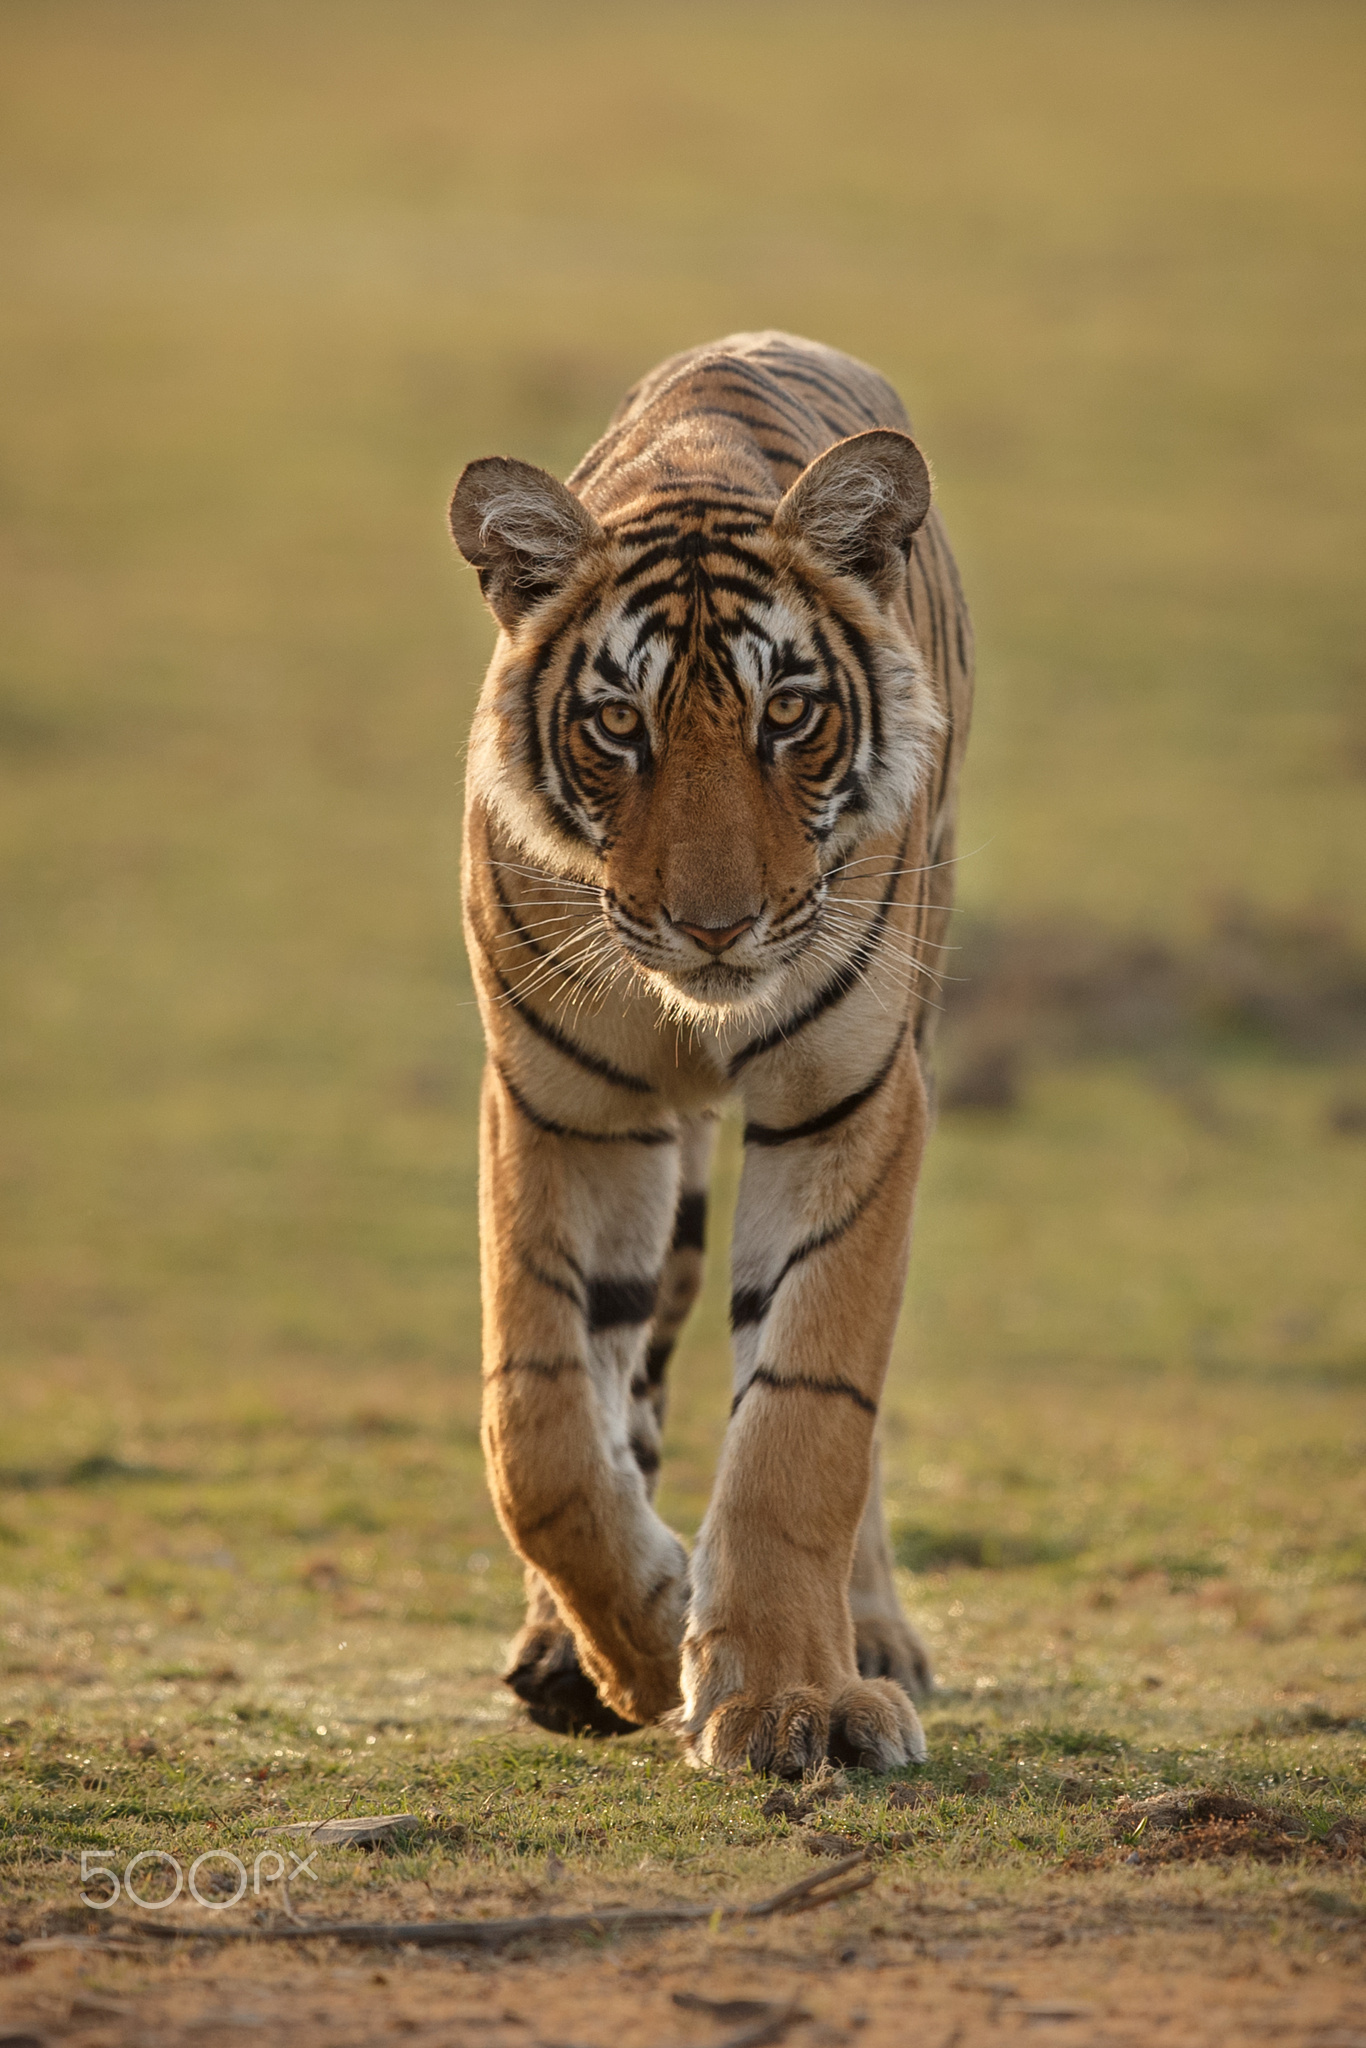tiger: (406, 293, 1066, 1762)
